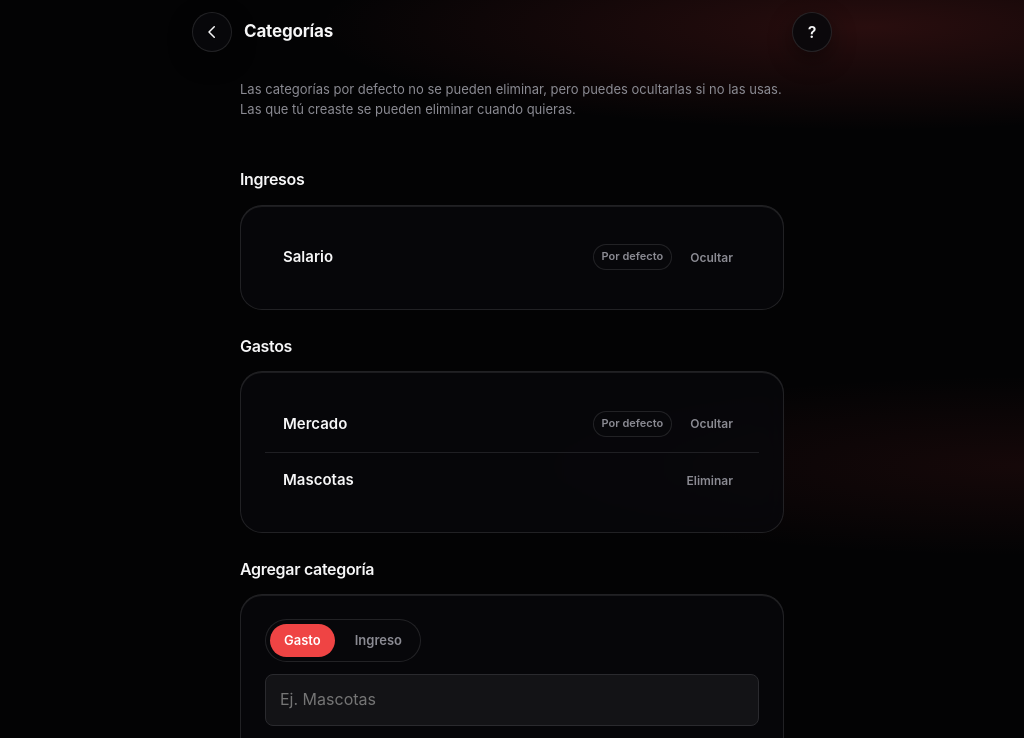
Test: CategoriesMain › agregar una categoria nueva la crea con el tipo elegido
This screenshot has width=1024, height=738.
Type "Suscripciones" into the field with placeholder "Ej. Mascotas" at [512, 700], box [265,674,759,726]
(page scrolled)
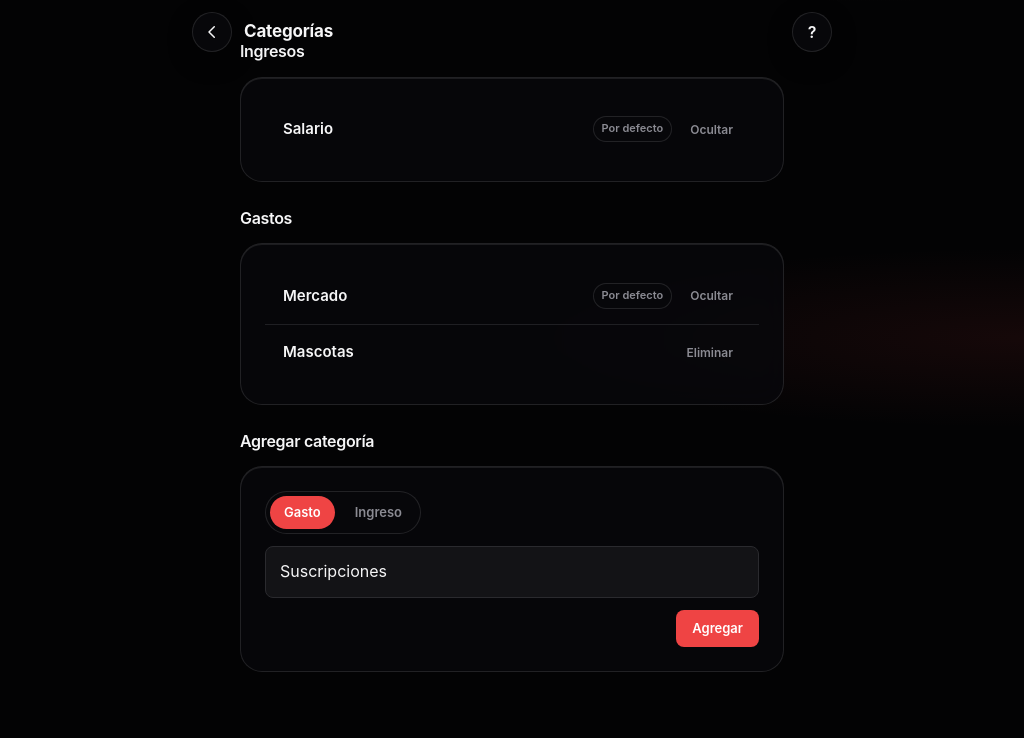
Submit the form with class "add-category-form", box [265,491,759,646]
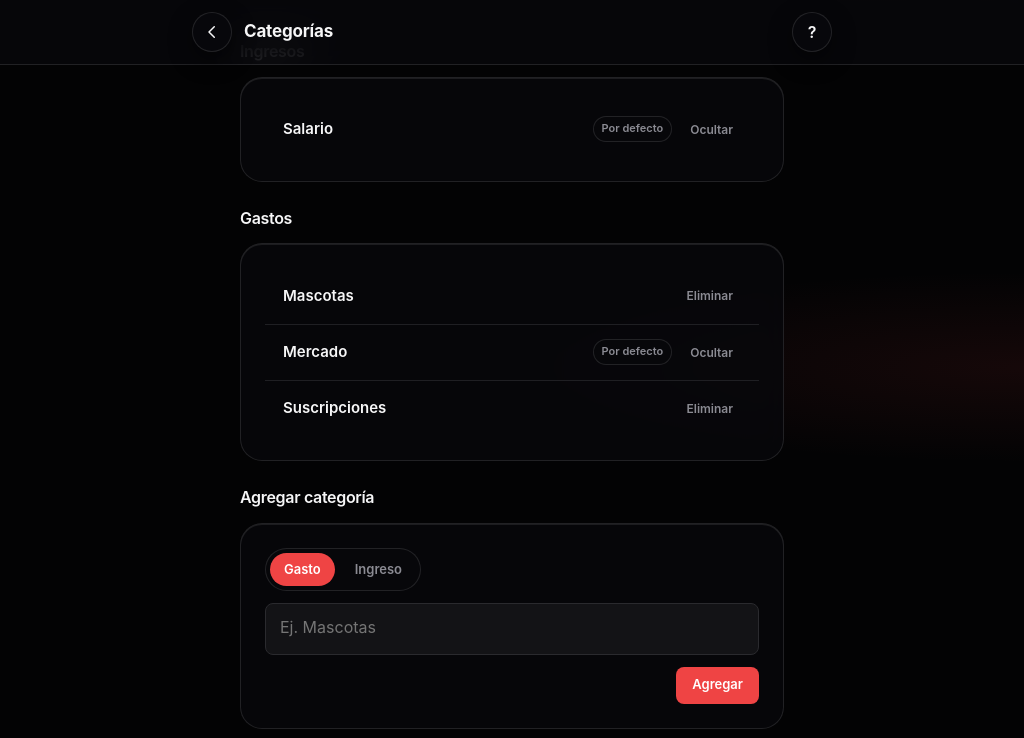
Check: the text "Suscripciones" is shown, box [283,398,386,417]
